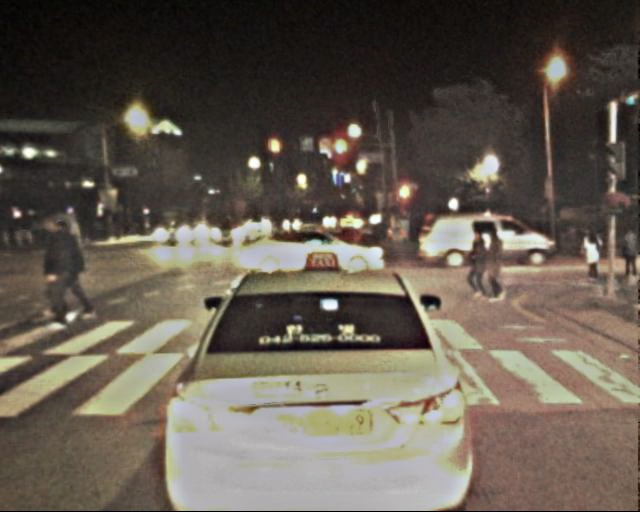person: (46, 212, 92, 325), (483, 228, 514, 304), (468, 233, 498, 306), (579, 228, 605, 291), (615, 224, 640, 285)
